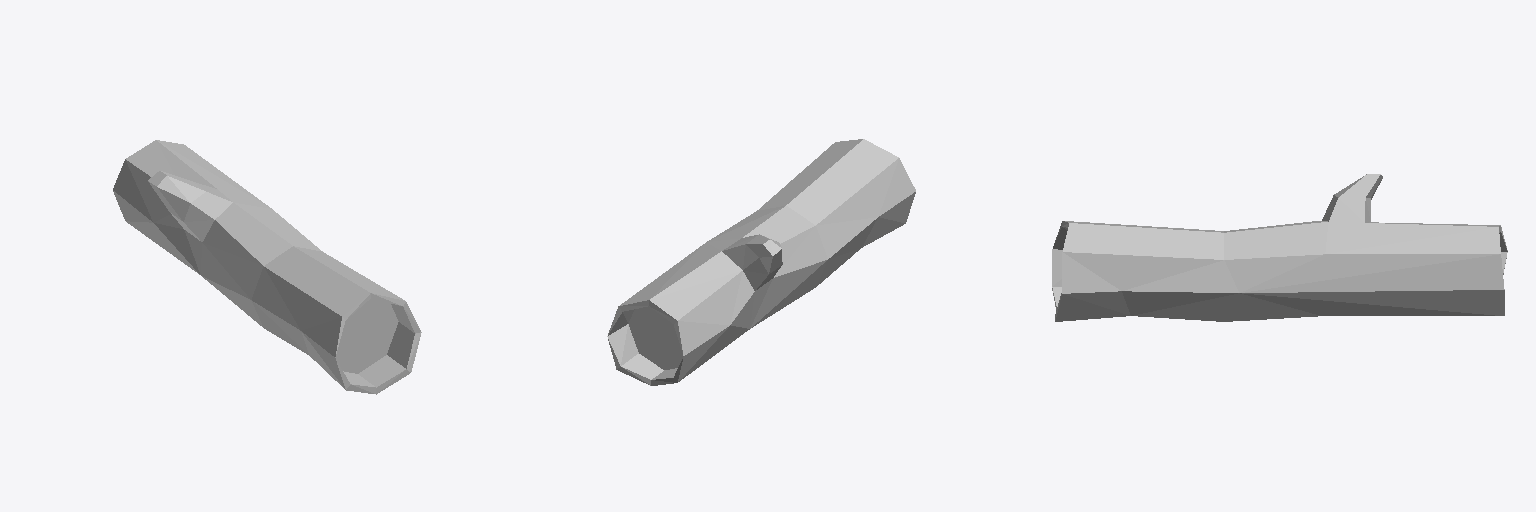
The model's file is log6.obj.
The picture shows the model from 3 angles: view 1: azimuth 30°, elevation 25°; view 2: azimuth 150°, elevation 25°; view 3: azimuth 270°, elevation 25°; orthographic projection.
Visible parts, largest first — view 1: Stump4_Cylinder.042; view 2: Stump4_Cylinder.042; view 3: Stump4_Cylinder.042.
Boxes of the visible parts, box(x1,y1,x2,y2) form: Stump4_Cylinder.042: box(113, 140, 421, 394); Stump4_Cylinder.042: box(607, 139, 915, 385); Stump4_Cylinder.042: box(1052, 174, 1507, 321).
Size of the model in its own units: 1.64 by 1.65 by 5.71.